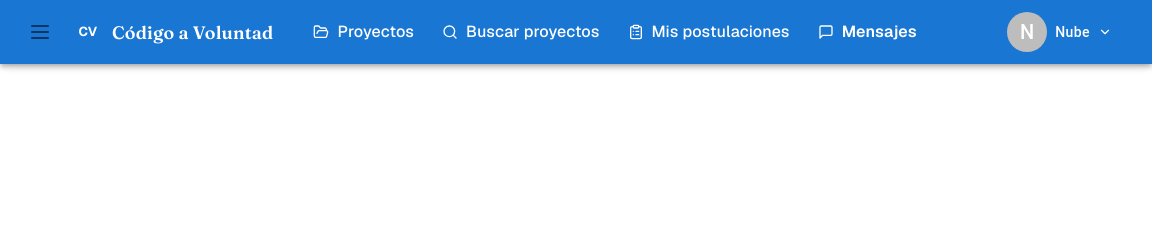
Test case: Navbar › cerrar sesión vuelve al inicio sin sesión
Click the button with aria-label "Cuenta de Nube". click: (1060, 32)
box: [999, 6, 1120, 58]
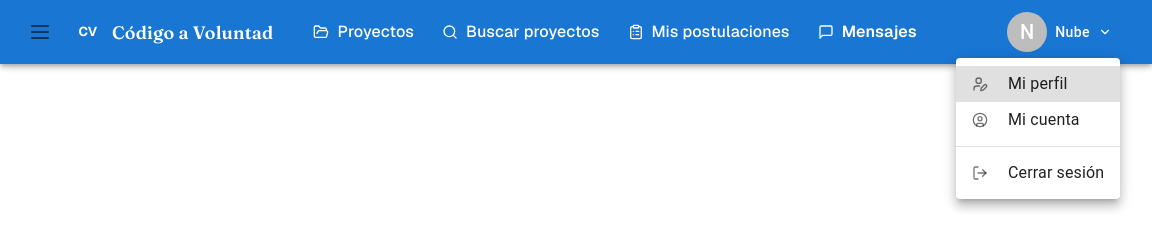
Click the menu item "Cerrar sesión". click: (1038, 172)
box: [972, 163, 1104, 182]
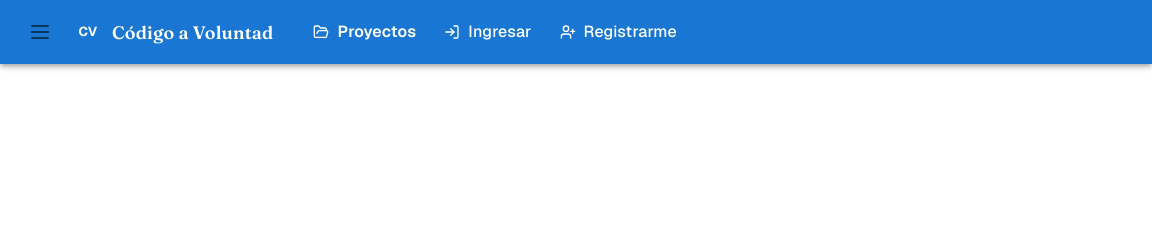
Expected: the heading "Inicio" is shown, [0, 4, 91, 43]
Result: the link "Ingresar" is shown at [444, 21, 532, 42]
